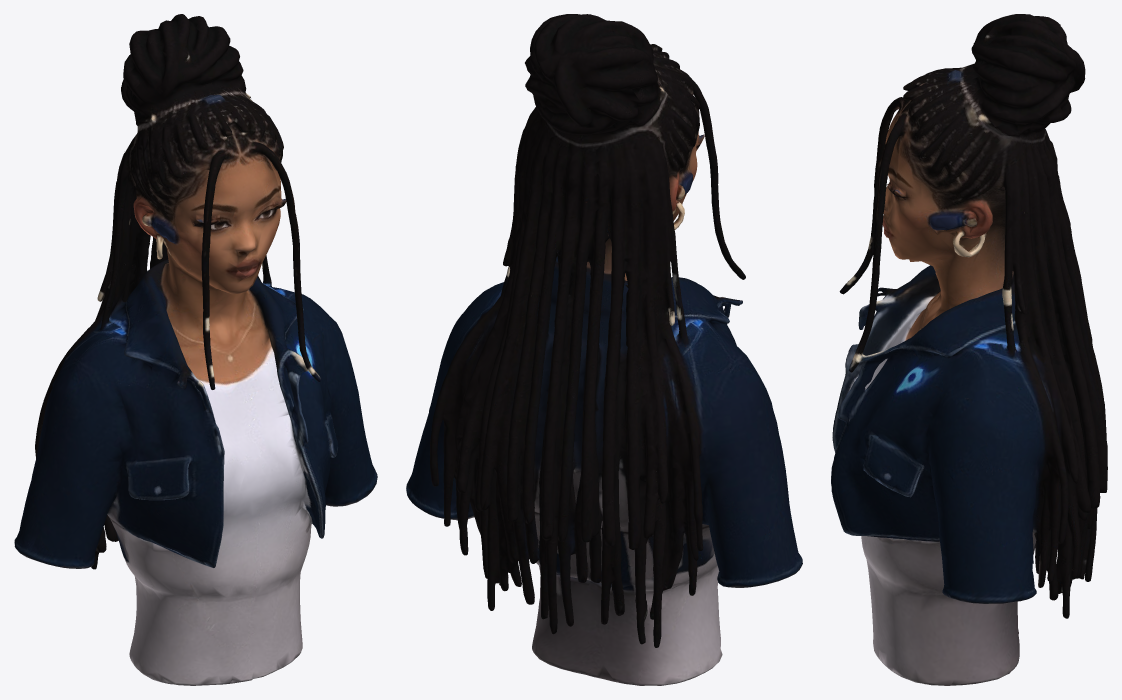
Rendered from navi_bust_uvsafe_68k.glb.
The picture shows the model from 3 angles, left to right: view 1: azimuth 30°, elevation 25°; view 2: azimuth 150°, elevation 25°; view 3: azimuth 270°, elevation 25°; orthographic projection. The views are drawn at different scales.
Visible parts, largest first — view 1: Navi_Unrigged_Bust; view 2: Navi_Unrigged_Bust; view 3: Navi_Unrigged_Bust.
Part boxes in pixels (x1=…): Navi_Unrigged_Bust: x1=14, y1=14, x2=377, y2=685; Navi_Unrigged_Bust: x1=406, y1=14, x2=802, y2=685; Navi_Unrigged_Bust: x1=831, y1=14, x2=1107, y2=685.
Size of the model in its own units: 1.15 by 1.9 by 0.7573.
1 material, 1 textured.
